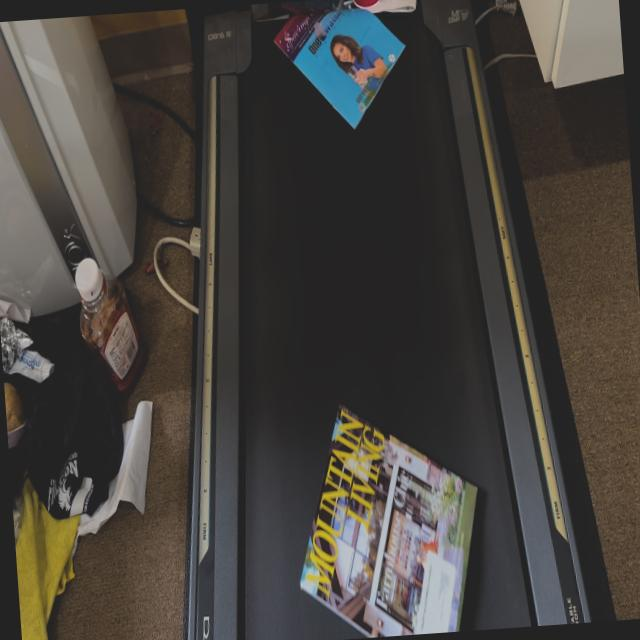Recycle: (286, 394, 487, 640), (269, 0, 411, 128)
